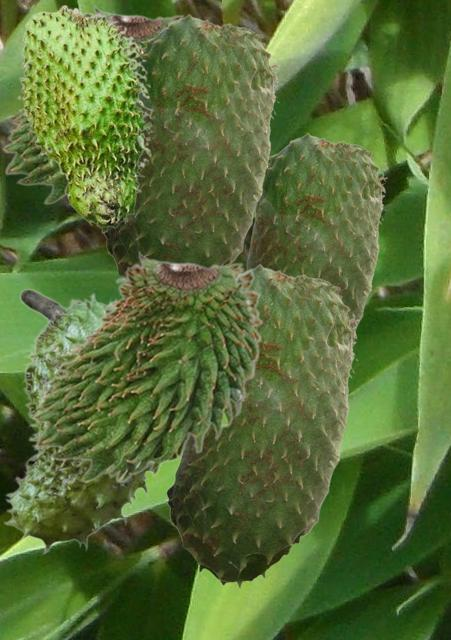guyabano: (164, 263, 358, 587), (31, 250, 263, 482), (101, 13, 279, 276), (2, 288, 162, 554), (1, 4, 185, 204), (17, 4, 153, 232), (246, 132, 386, 339)
